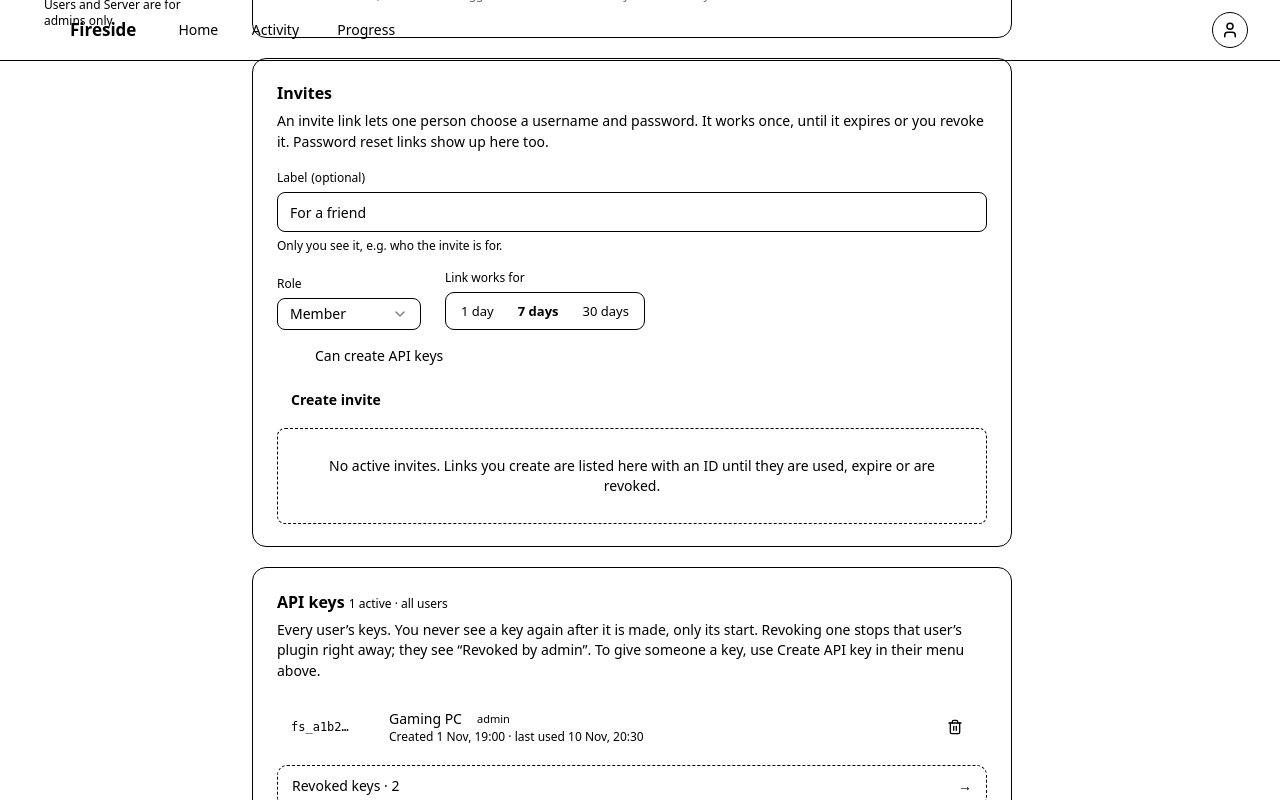
Test: Settings → Users › shows the server’s message when there are too many invites
This screenshot has width=1280, height=800.
Click the button "Create invite" at coordinates (336, 400), box [277,382,395,418]
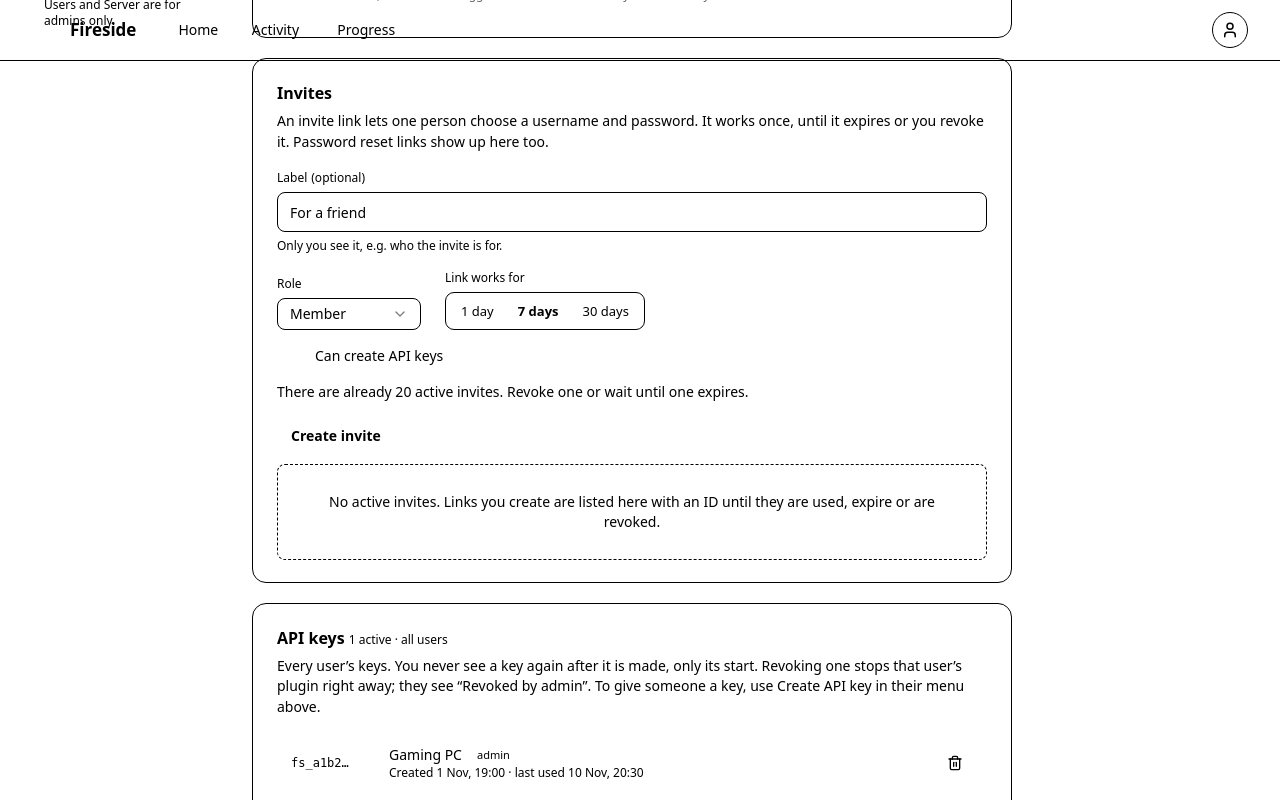
Result: the message shows "already 20 active invites" at [277,382,749,401]
